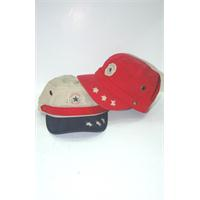hat: (77, 54, 160, 114), (38, 75, 108, 134)
